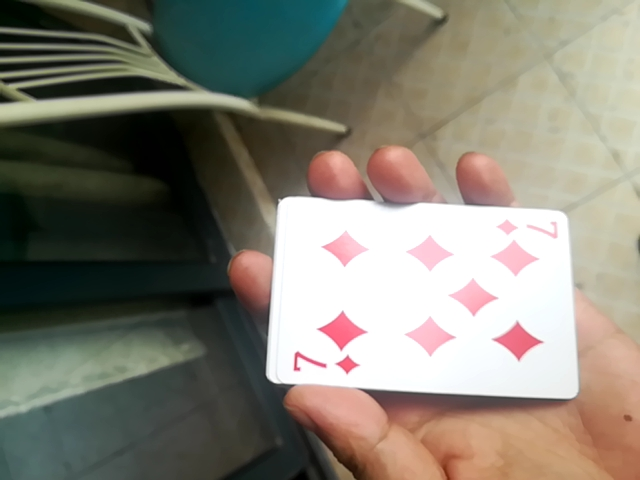fk 7: (270, 203, 582, 401)
